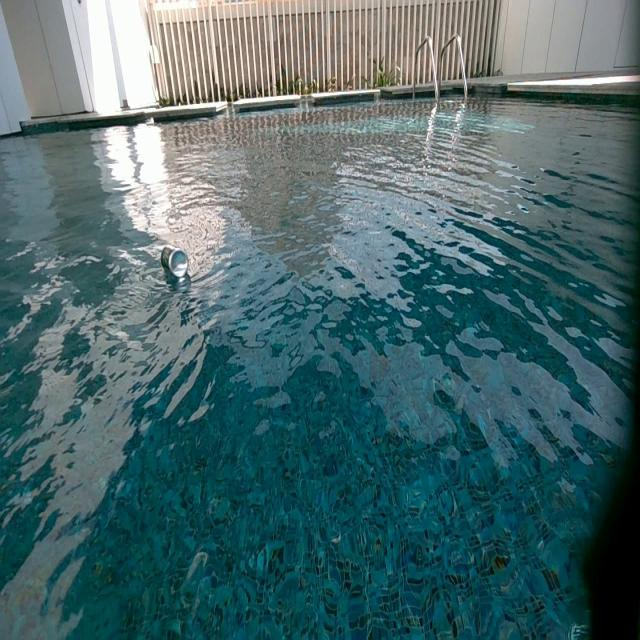Cans: (160, 247, 192, 281)
